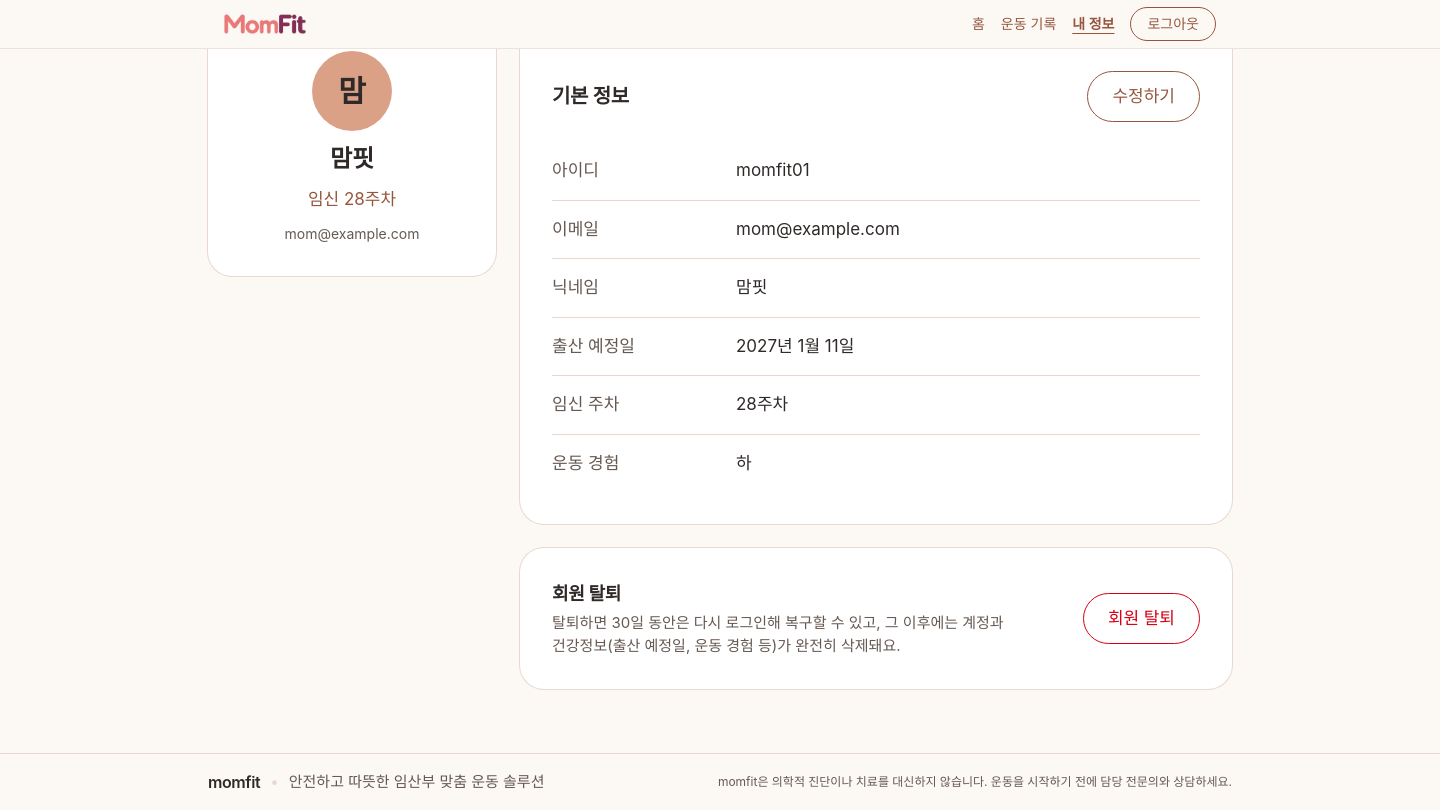
Scenario: 회원 탈퇴 › 탈퇴하면 계정 삭제를 요청하고 로그아웃되어 랜딩으로 이동한다
(page scrolled)
Click the button "회원 탈퇴" at (1141, 619), box [1083,593,1200,644]
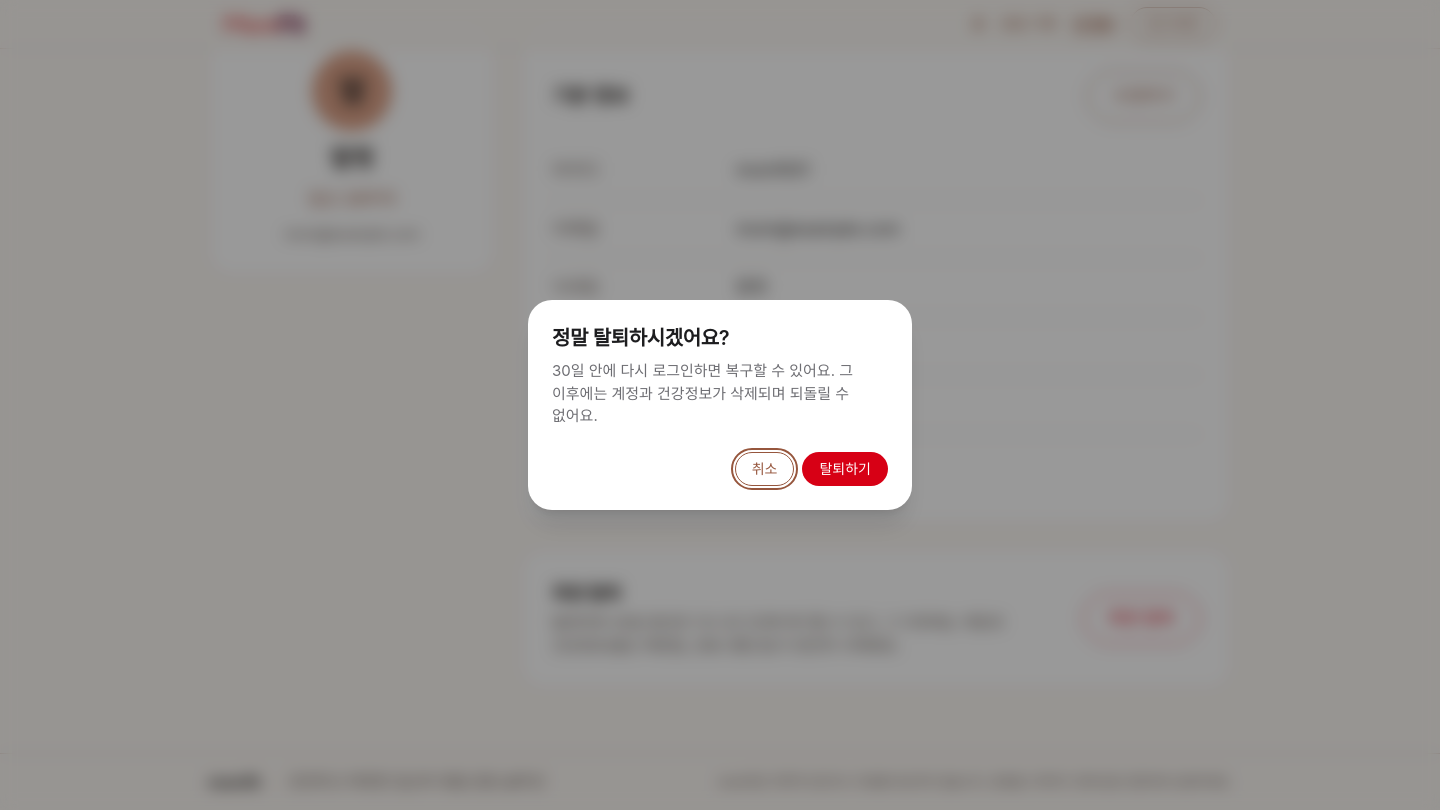
Click the button "탈퇴하기" at (845, 469), box [802,452,888,486]
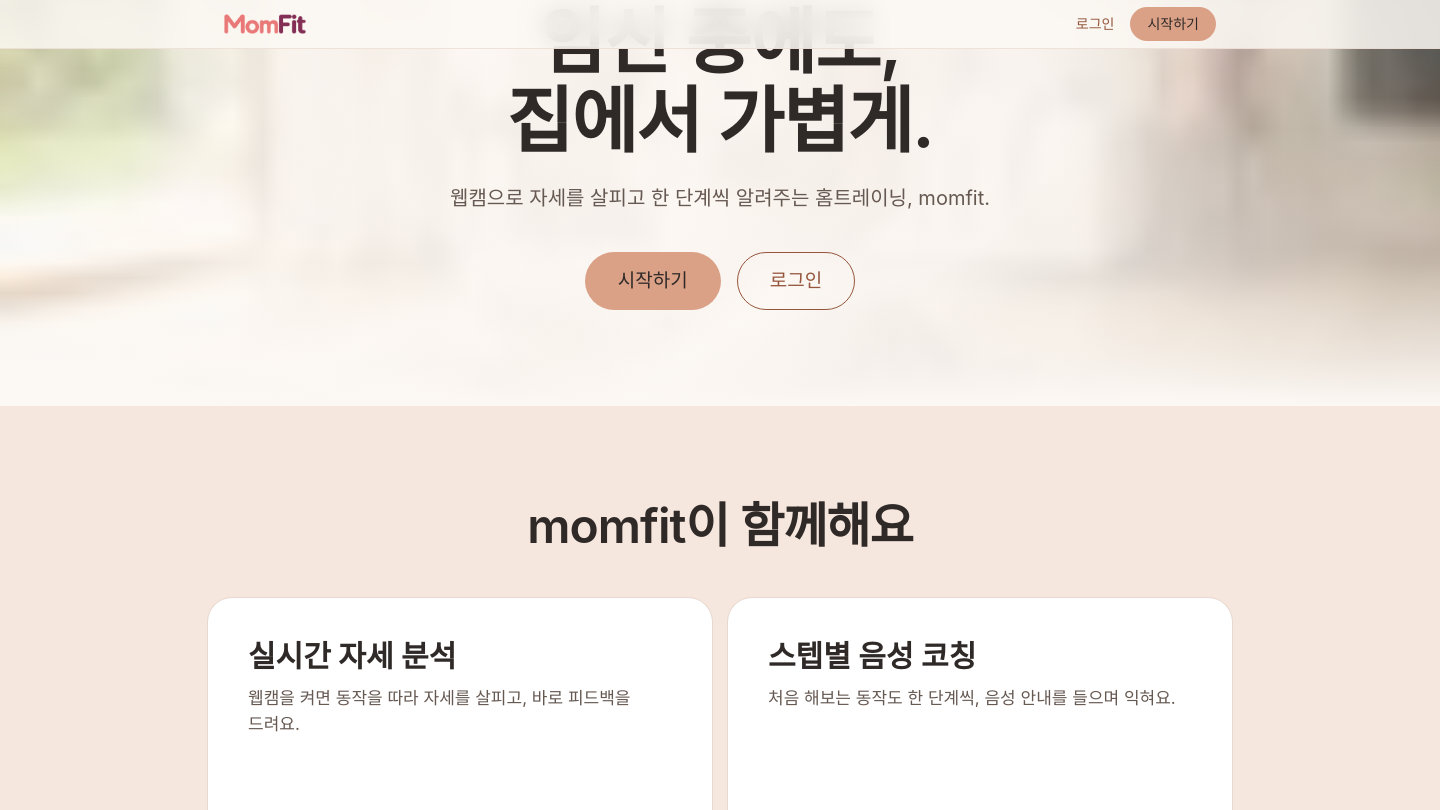
expect the 1st link "로그인" is shown: met, box [1076,14,1114,34]
expect the link "내 정보" is gone: met
